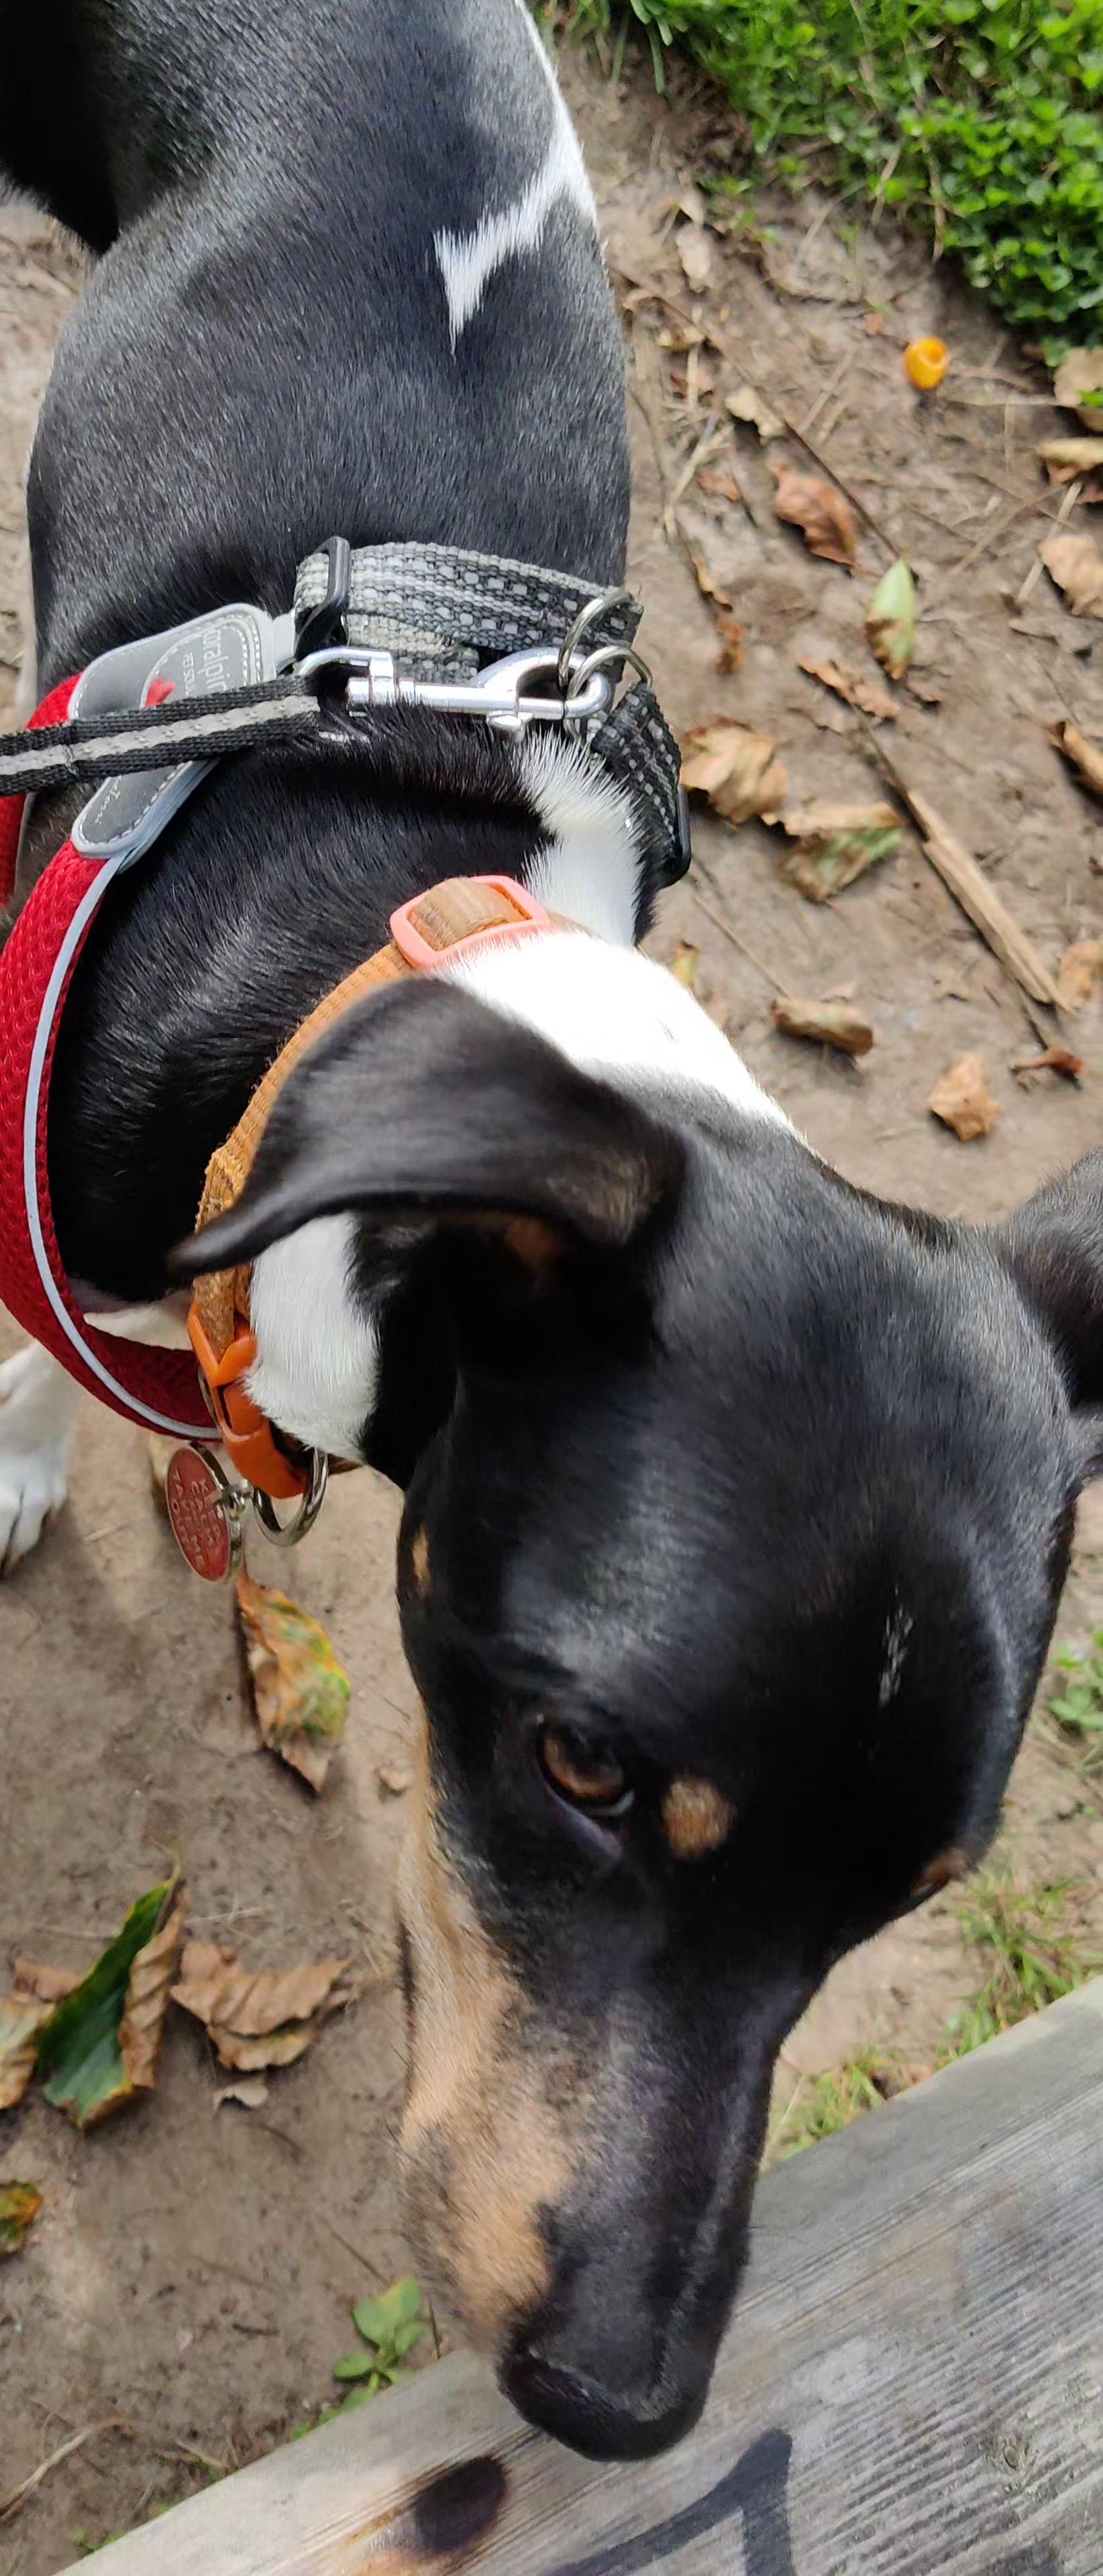Dog: (0, 0, 1103, 2477)
